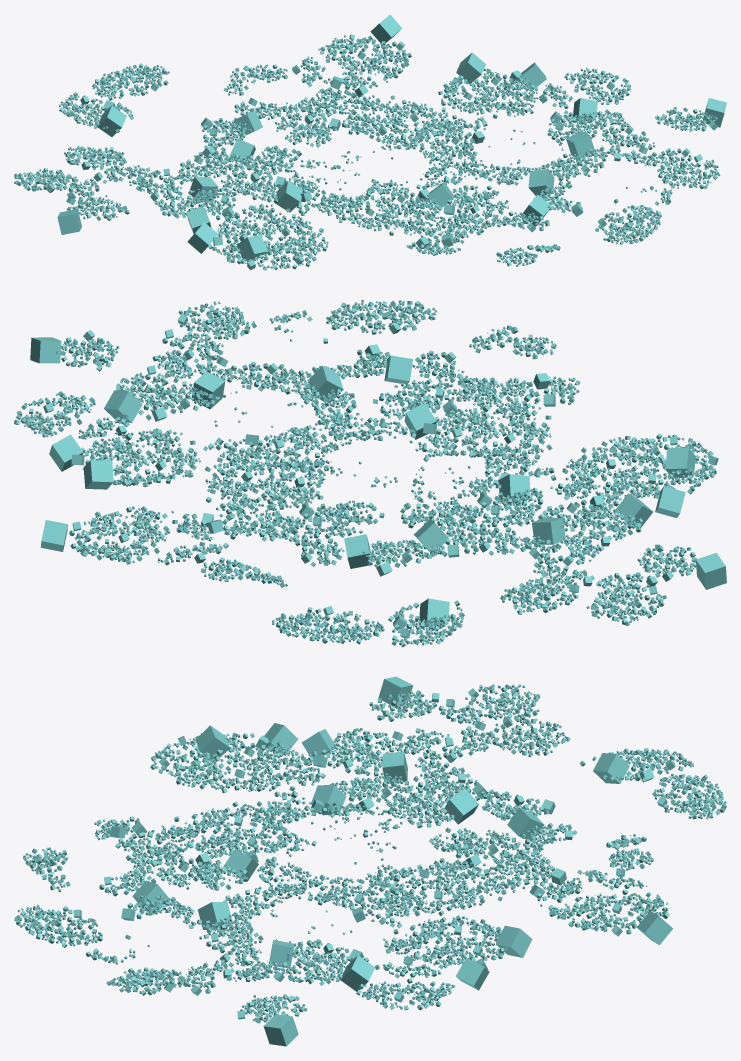
The model's file is Glass.Shards2.fbx.
3 renders of one model, top to bottom at view 1: azimuth 30°, elevation 25°; view 2: azimuth 150°, elevation 25°; view 3: azimuth 270°, elevation 25°, orthographic. The views are drawn at different scales.
Parts seen in each view (by area): view 1: Cube; view 2: Cube; view 3: Cube.
Boxes of the visible parts, <box> form: Cube: <box>14,14,726,270</box>; Cube: <box>14,299,726,647</box>; Cube: <box>14,676,726,1046</box>.
Bounding box in the file's own units: 827 × 42.15 × 708.
